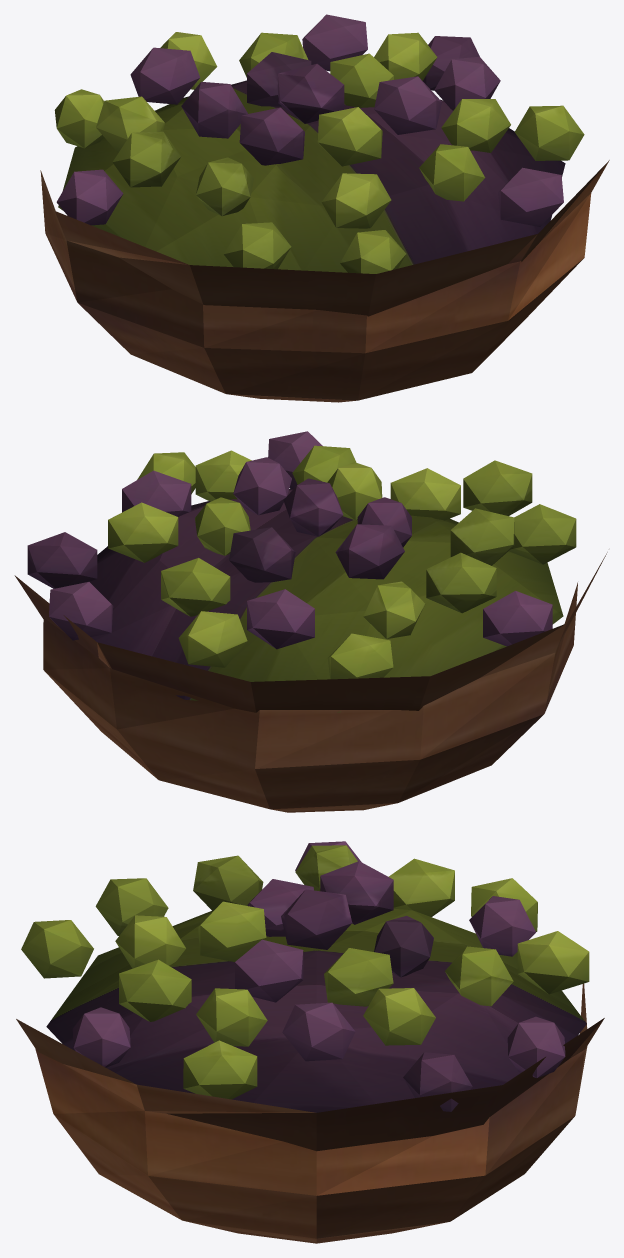
File: pote_azeitonas.glb
The picture shows the model from 3 angles, top to bottom: view 1: azimuth 30°, elevation 25°; view 2: azimuth 150°, elevation 25°; view 3: azimuth 270°, elevation 25°; orthographic projection. The views are drawn at different scales.
Parts seen in each view (by area): view 1: PoteAzeitonas; view 2: PoteAzeitonas; view 3: PoteAzeitonas.
Boxes of the visible parts, left/top/right/bottom form: PoteAzeitonas: left=40, top=14, right=609, bottom=402; PoteAzeitonas: left=14, top=431, right=607, bottom=812; PoteAzeitonas: left=16, top=841, right=604, bottom=1243.
Bounding box in the file's own units: 0.6772 × 0.3462 × 0.6394.
Materials: 1 (1 with a texture image).
